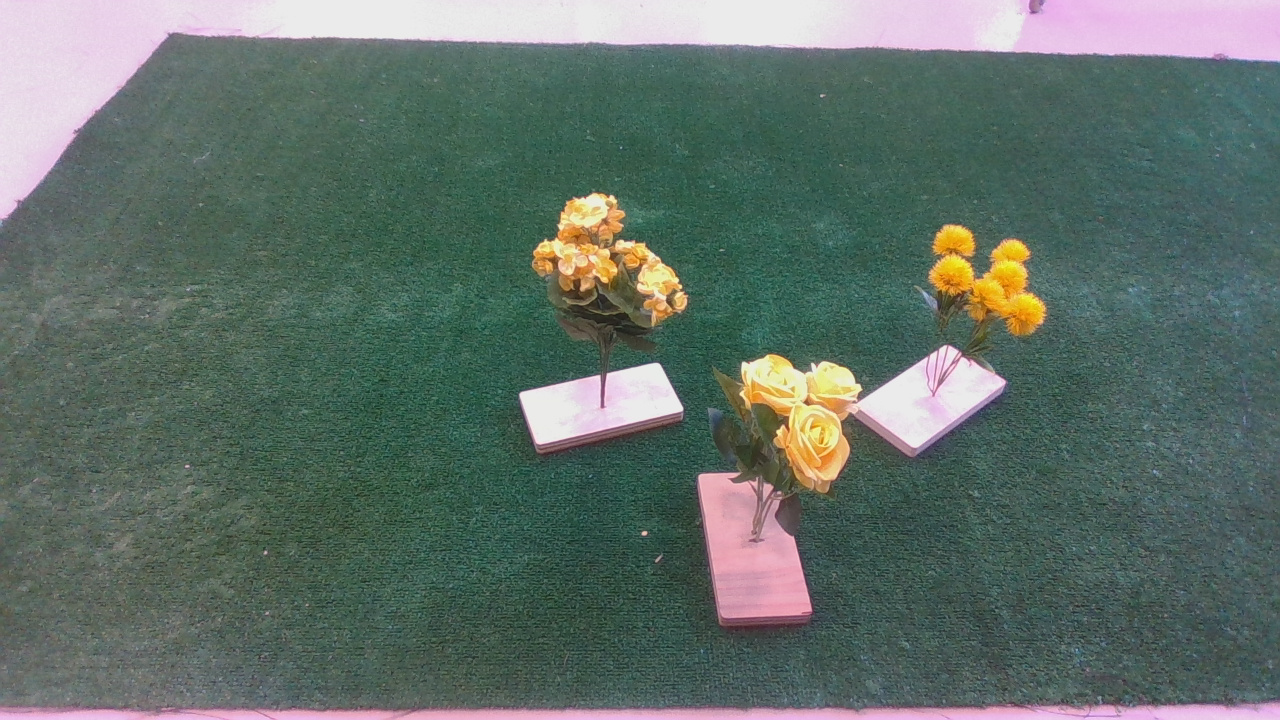dandelion: (522, 196, 694, 356), (906, 222, 1059, 345)
rose: (687, 358, 866, 510)
